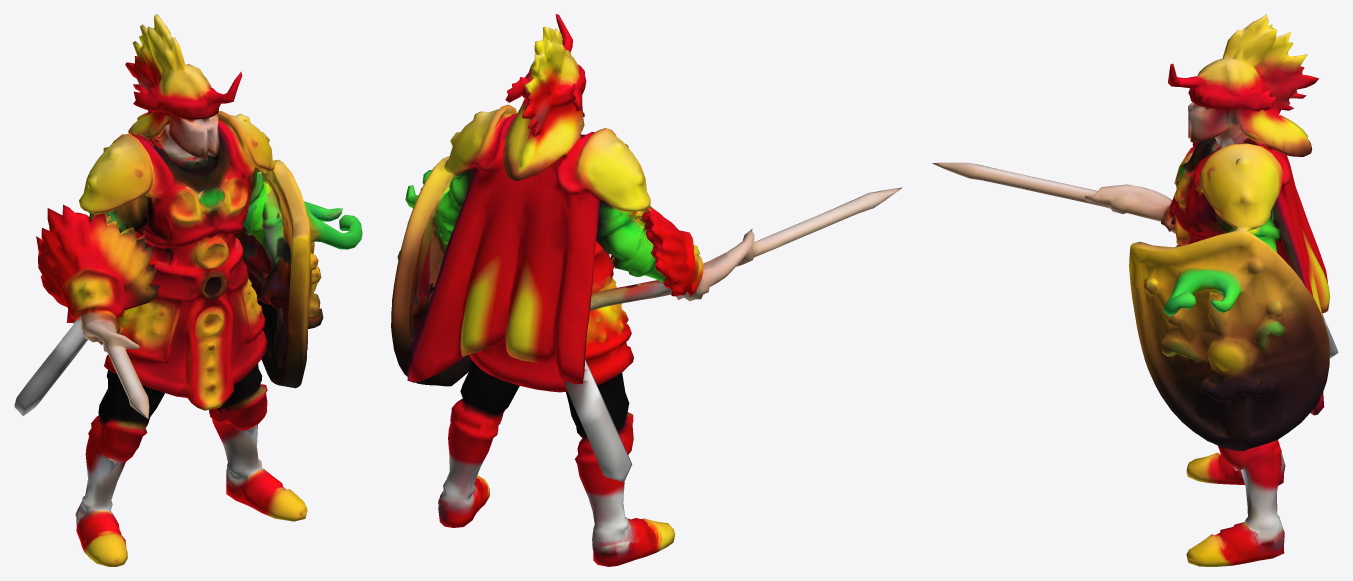
Rendered from infantry.glb.
3 renders of one model, left to right at view 1: azimuth 30°, elevation 25°; view 2: azimuth 150°, elevation 25°; view 3: azimuth 270°, elevation 25°, orthographic. The views are drawn at different scales.
Size of the model in its own units: 1.34 by 1.91 by 1.42.
Materials: 1 (1 with a texture image).
